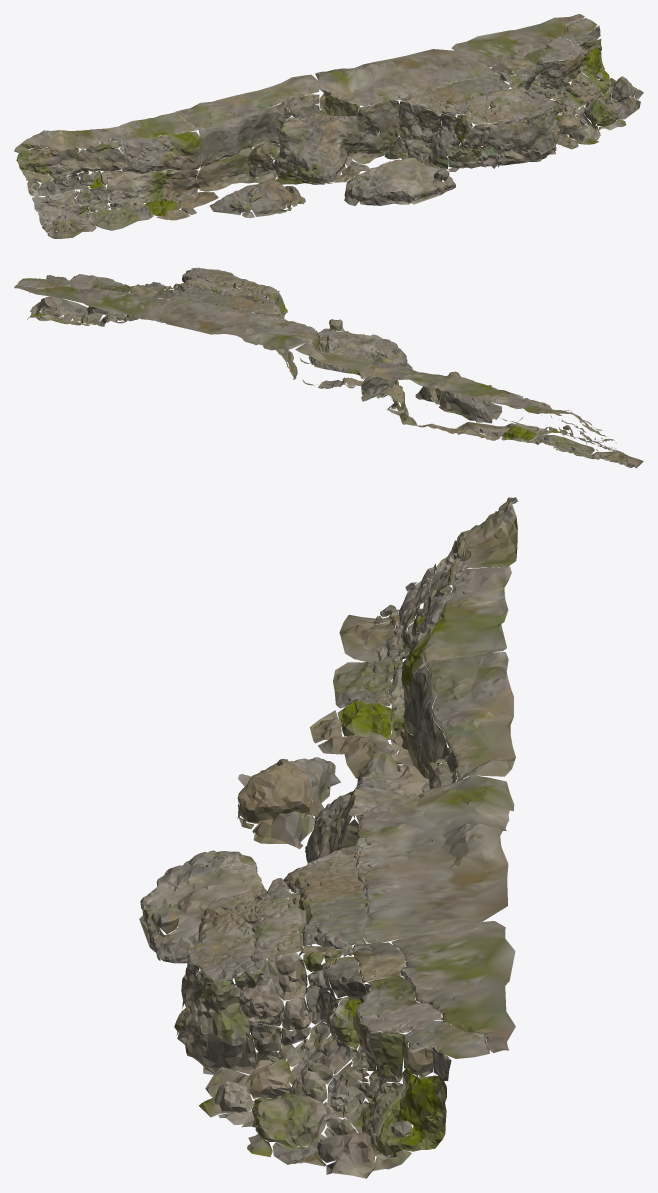
The model's file is CoastalCliff04Mobile.glb.
3 renders of one model, top to bottom at view 1: azimuth 30°, elevation 25°; view 2: azimuth 150°, elevation 25°; view 3: azimuth 270°, elevation 25°, orthographic. The views are drawn at different scales.
Parts seen in each view (by area): view 1: geometry_0; view 2: geometry_0; view 3: geometry_0.
Part boxes in pixels (x1,y1,x2,y2): geometry_0: [14, 14, 643, 238]; geometry_0: [14, 267, 643, 468]; geometry_0: [139, 497, 518, 1178].
Size of the model in its own units: 86.51 by 10.96 by 24.2.
